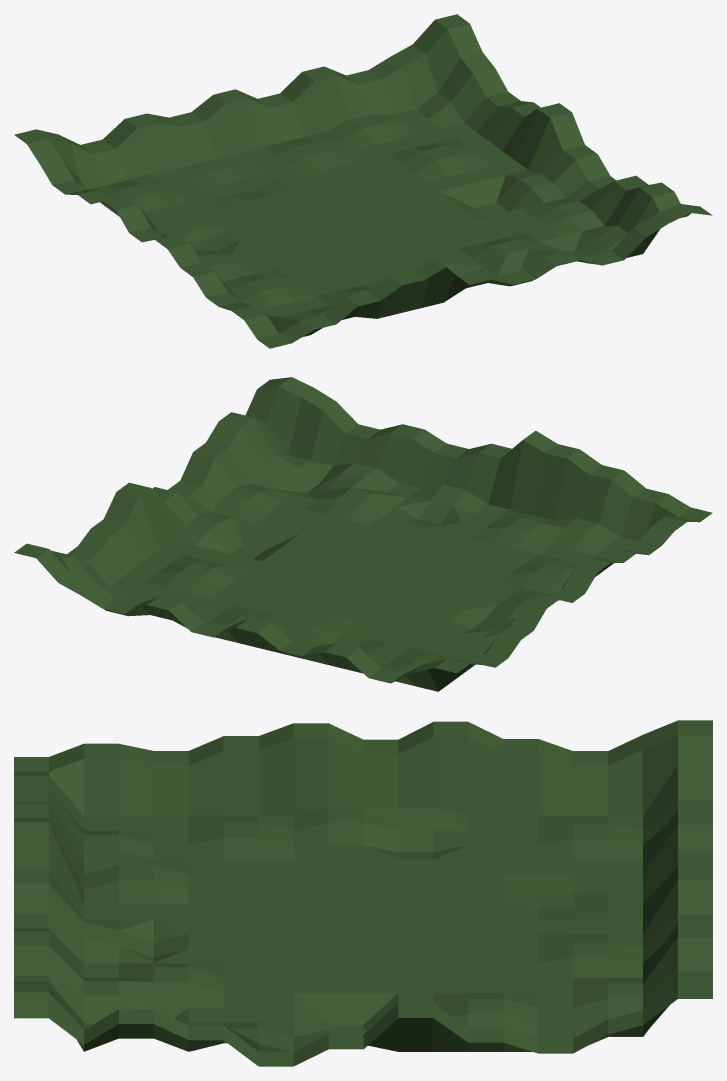
Rendered from Landscape_01.FBX.
The picture shows the model from 3 angles, top to bottom: view 1: azimuth 30°, elevation 25°; view 2: azimuth 150°, elevation 25°; view 3: azimuth 270°, elevation 25°; orthographic projection. The views are drawn at different scales.
Visible parts, largest first — view 1: Plane001; view 2: Plane001; view 3: Plane001.
Boxes of the visible parts, x1,y1,x2,y2 form: Plane001: (14,14,712,348); Plane001: (14,377,712,691); Plane001: (14,720,712,1066).
Size of the model in its own units: 931 by 147 by 931.
